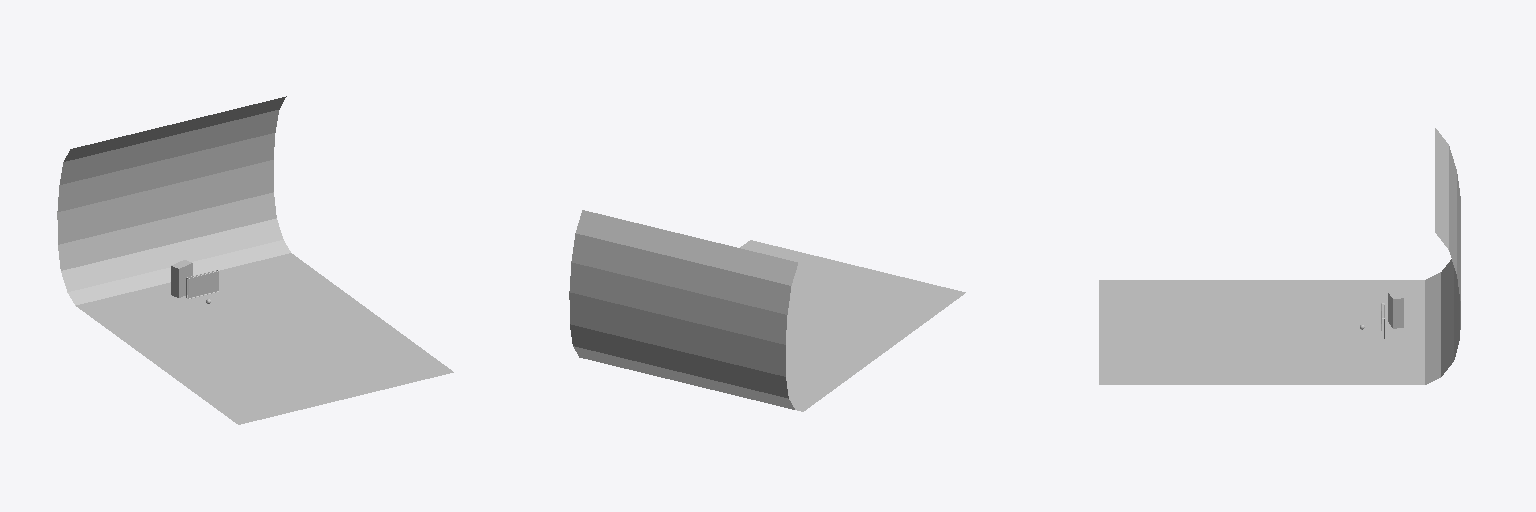
File: Prueba escena.obj
3 views of the same model, side by side, from view 1: azimuth 30°, elevation 25°; view 2: azimuth 150°, elevation 25°; view 3: azimuth 270°, elevation 25° (orthographic).
Parts seen in each view (by area): view 1: Plane001, Box003, Plane002; view 2: Plane001; view 3: Plane001, Box003.
Part boxes in pixels (x1,y1,x2,y2): Plane001: (57,96,453,424); Box003: (171,260,192,297); Plane002: (188,271,218,297); Plane001: (569,210,965,411); Plane001: (1099,128,1460,384); Box003: (1388,290,1403,328).
Size of the model in its own units: 349 by 236 by 506.